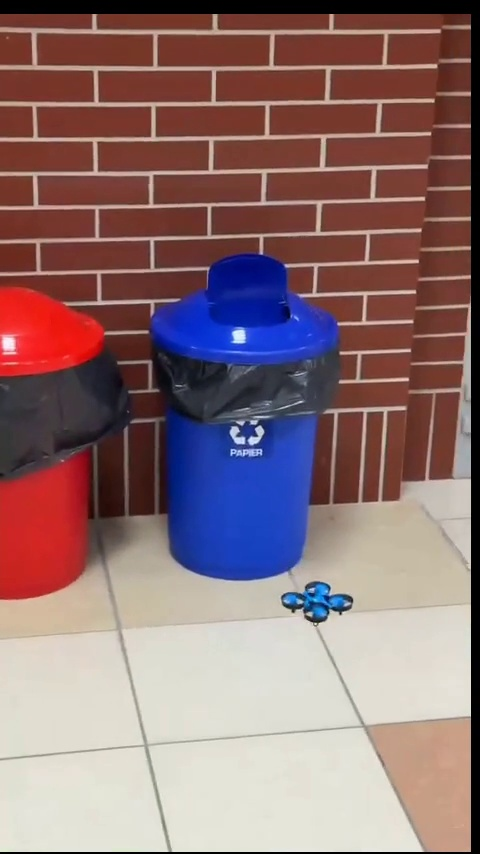drone: (283, 580, 353, 624)
